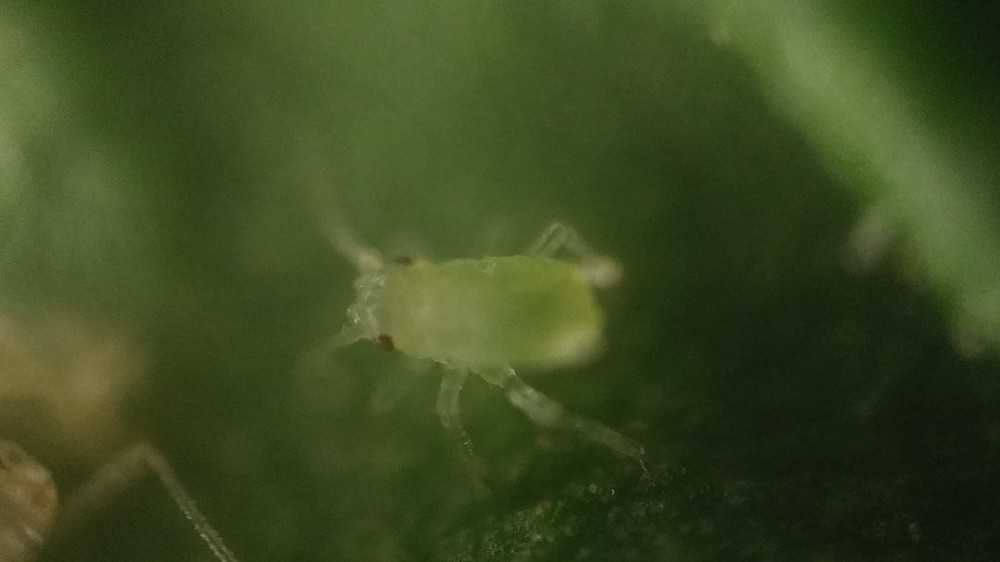Pulgon: (289, 186, 695, 497)
